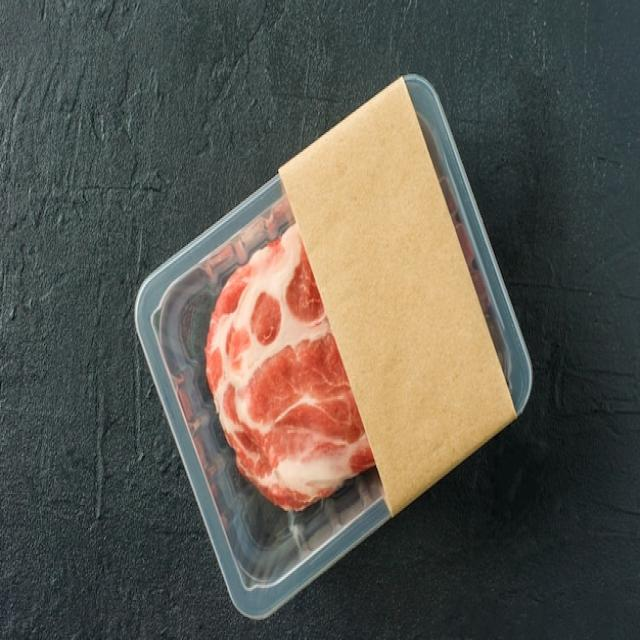pork: (121, 126, 497, 568)
